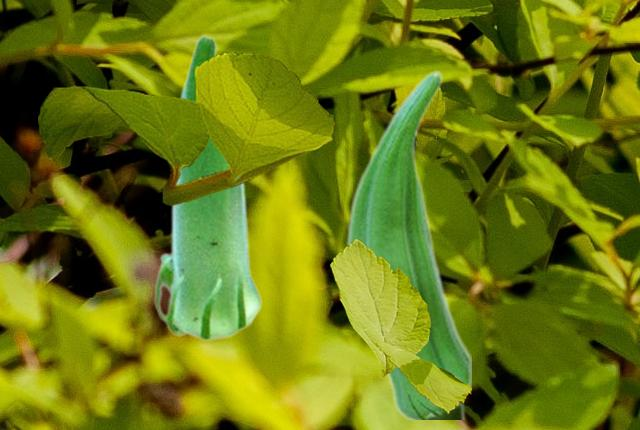okra: (345, 68, 470, 418), (153, 34, 262, 341)
